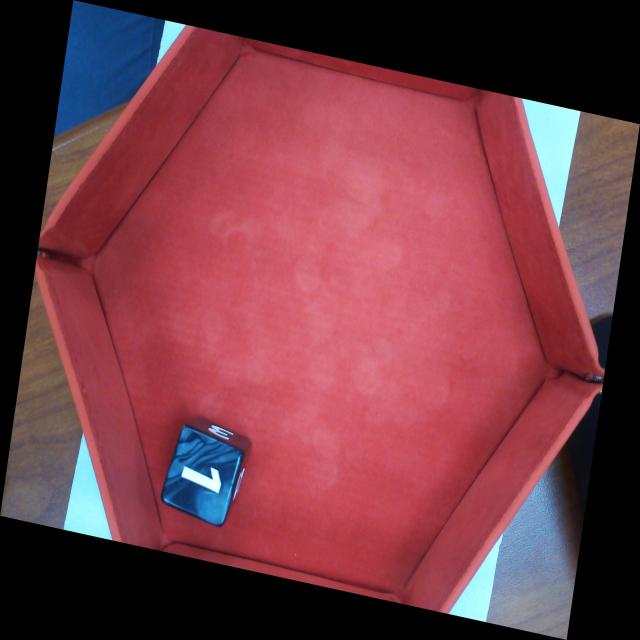dice: (158, 419, 246, 532)
